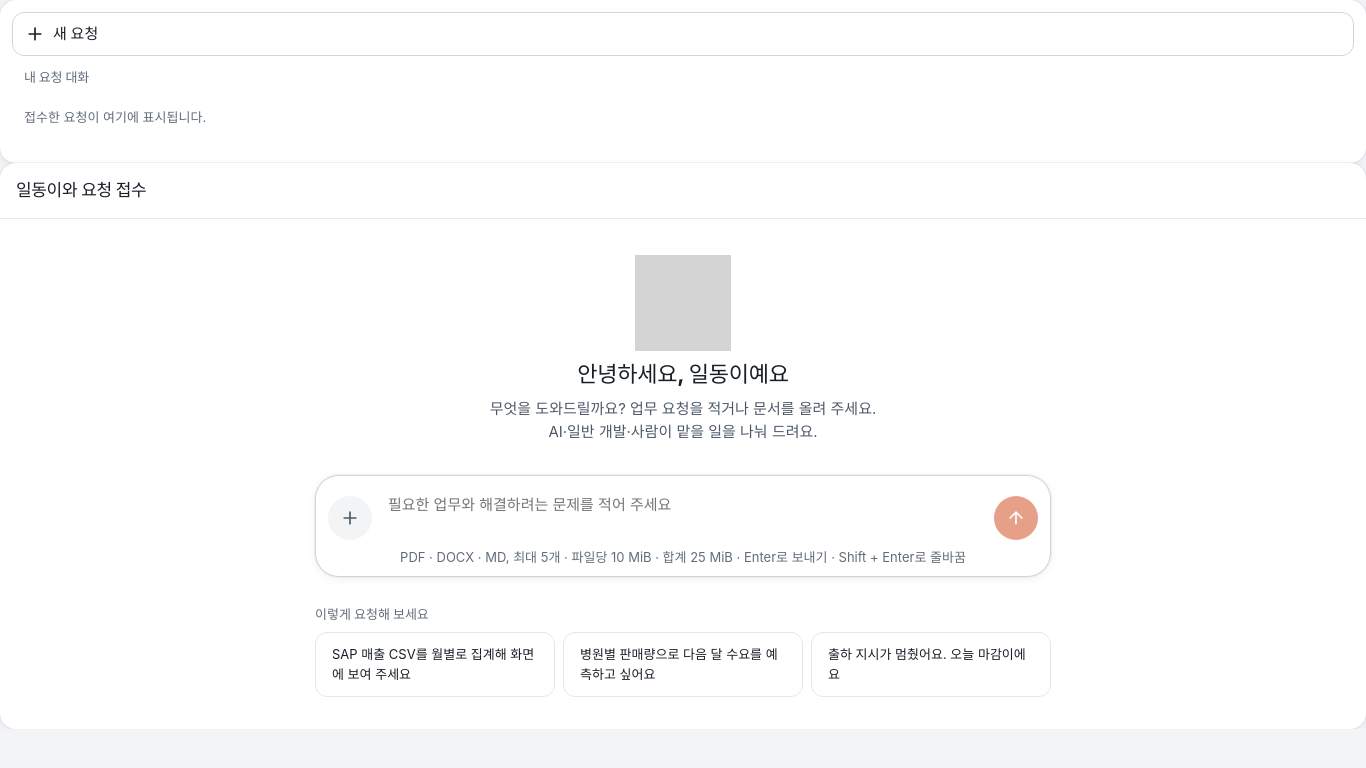
Test: ChatGPT-style conversation › empty state: greeting, then the big composer, then the example chips; after the first message the chips and greeting are gone
Expected: the button named "요청 보내기" is disabled, [994,496,1038,540]
Type "회의실 예약" into the text box named "요청 내용".
click(683, 512); type("회의실 예약")  # box [380,484,986,540]
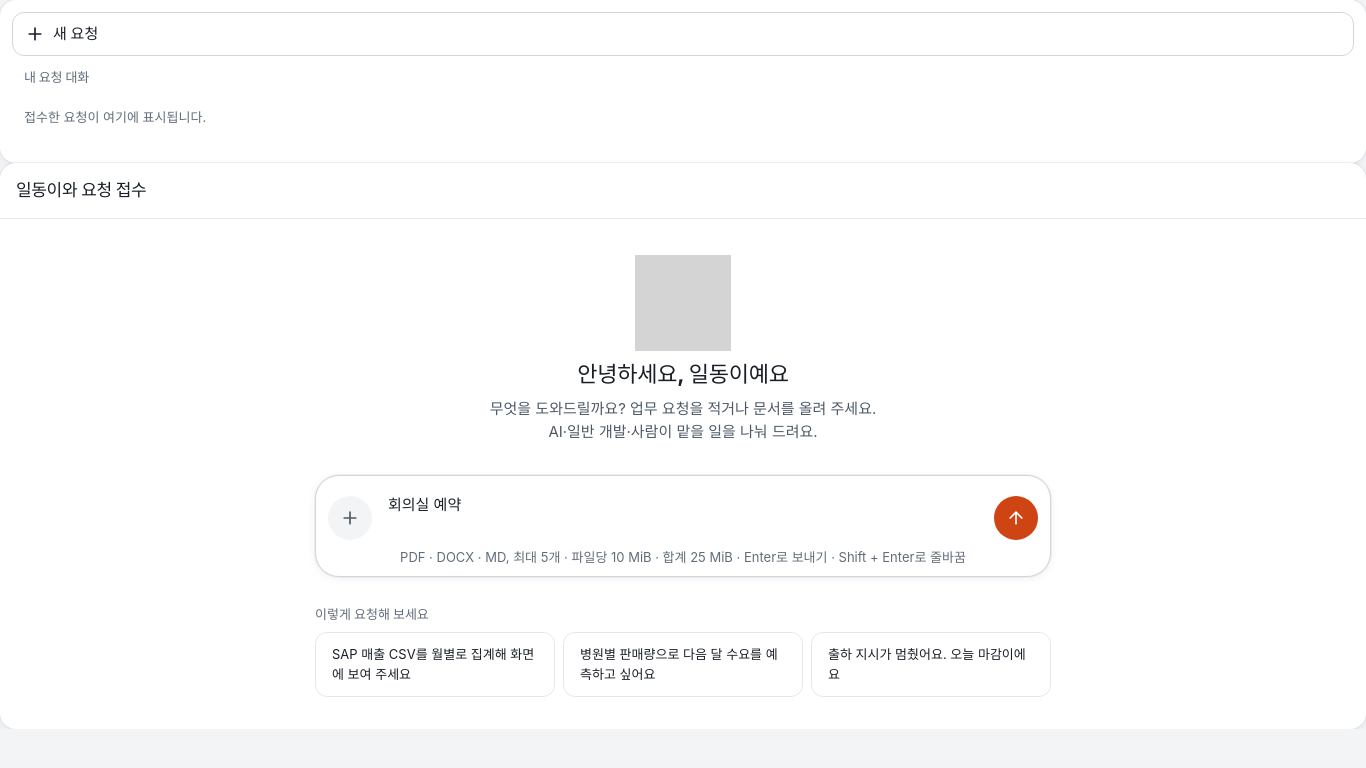
Result: the button named "요청 보내기" is enabled at [994,496,1038,540]
Press Enter in the text box named "요청 내용", box [380,484,986,540]
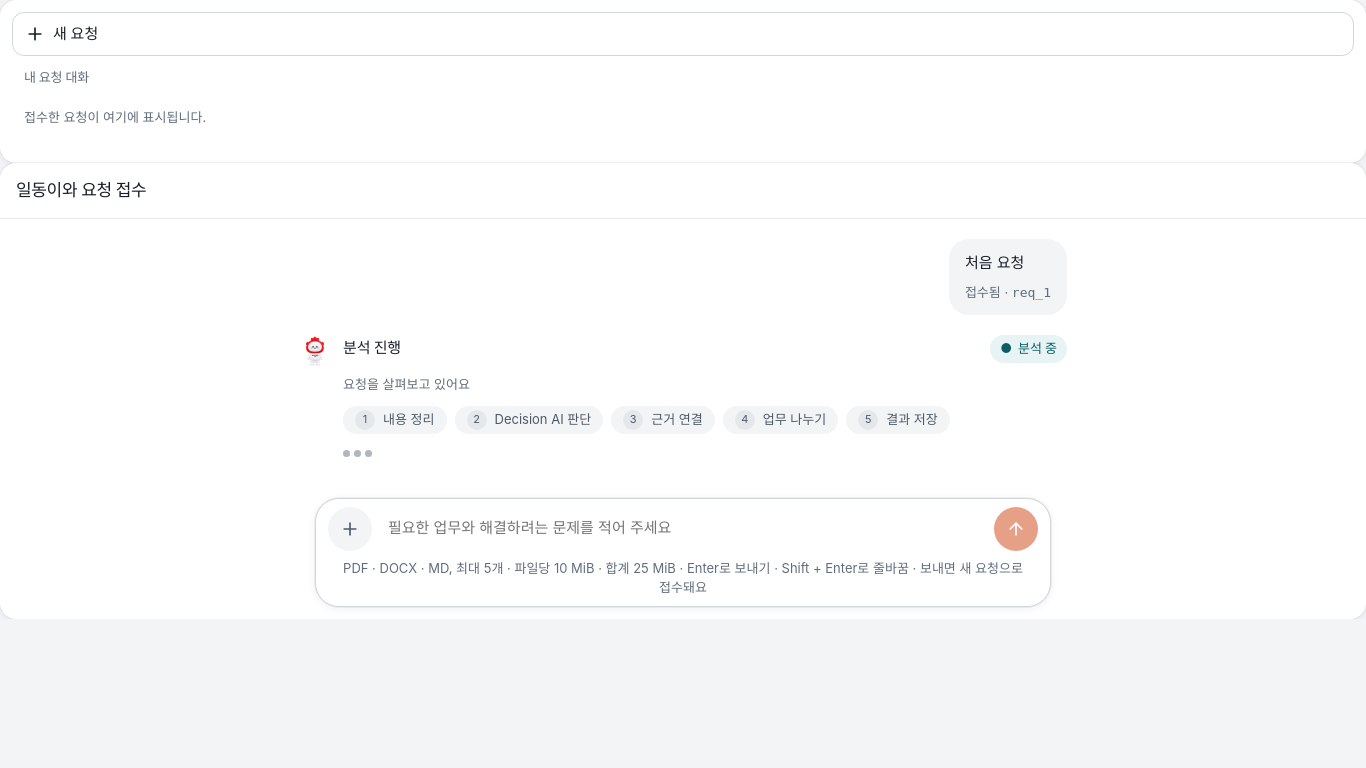
Result: the element "분석 진행" is shown at [299,334,1067,434]
